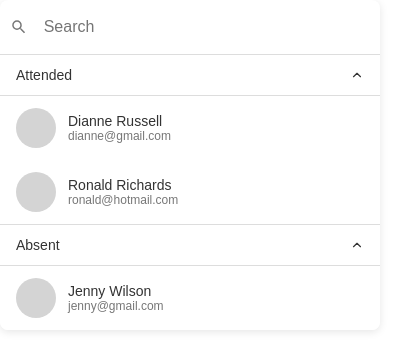
Test: ContactList Component › collapses and expands sections correctly
Collapse attended section
Click the text "Attended": (190, 75) left=0, top=54, right=380, bottom=96
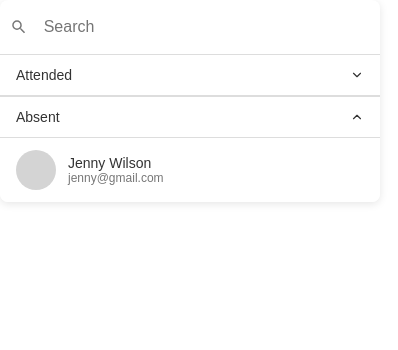
Expected: the text "Dianne Russell" is gone
Expected: the text "Ronald Richards" is gone
Expand attended section
Click the text "Attended": (190, 75) left=0, top=54, right=380, bottom=96
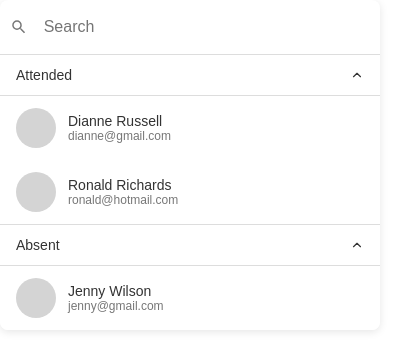
Expected: the text "Dianne Russell" is shown, left=68, top=113, right=171, bottom=129
Expected: the text "Ronald Richards" is shown, left=68, top=177, right=178, bottom=193
Collapse absent section
Click the text "Absent": (190, 245) left=0, top=224, right=380, bottom=266
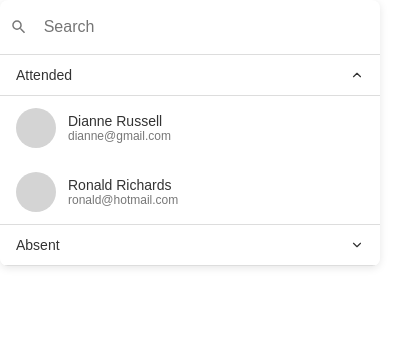
Expected: the text "Jenny Wilson" is gone
Expand absent section
Click the text "Absent": (190, 245) left=0, top=224, right=380, bottom=266
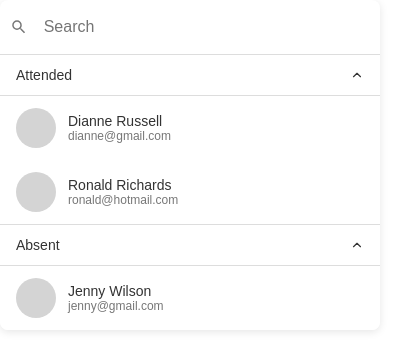
Expected: the text "Jenny Wilson" is shown, left=68, top=283, right=164, bottom=299
